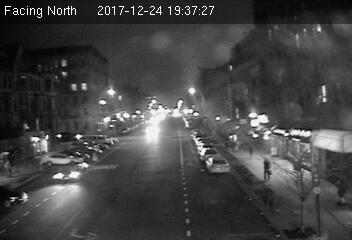car: (53, 160, 86, 181), (205, 154, 229, 175)
pedestrian: (258, 156, 274, 182)
